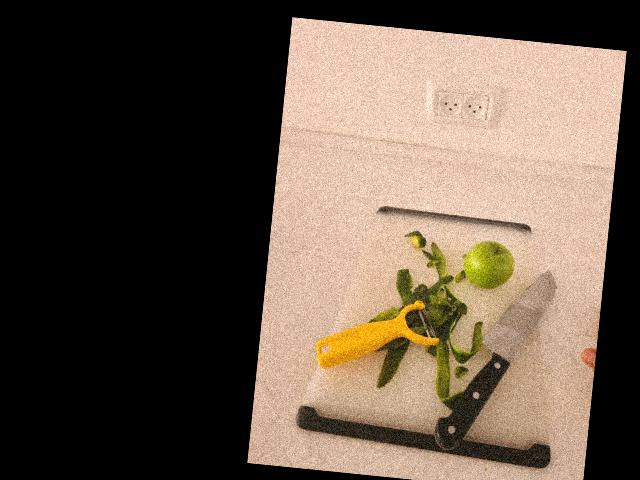apple: (463, 239, 512, 290)
